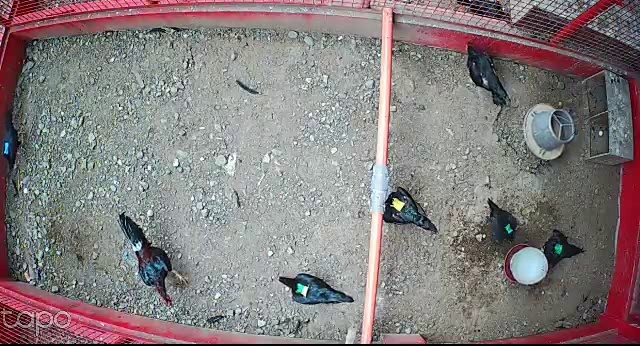Chicken: (274, 268, 358, 309), (460, 41, 512, 106), (379, 184, 444, 234), (538, 225, 589, 268), (483, 196, 522, 243), (0, 109, 26, 174)
Feeder: (522, 103, 577, 162)
Rooster: (503, 243, 552, 286)
Saddle_Color_Blue: (4, 142, 9, 155)
Saddle_Color_Yellow: (388, 196, 407, 213)
Saddle_Color_YellowGreen: (294, 281, 309, 297)
